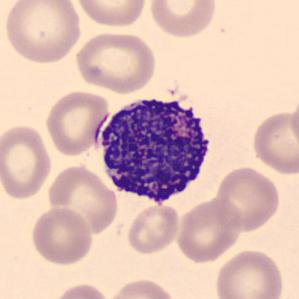Basophil: (94, 87, 218, 210)
RBC: (72, 28, 158, 94), (45, 163, 120, 236), (2, 0, 83, 66), (174, 196, 244, 264), (212, 165, 282, 233), (43, 88, 110, 157), (0, 122, 54, 201), (28, 205, 95, 267), (212, 247, 286, 299), (250, 106, 298, 177), (125, 203, 181, 256), (147, 0, 218, 40), (72, 0, 149, 29), (105, 275, 176, 299), (51, 281, 111, 299), (288, 90, 299, 153)
